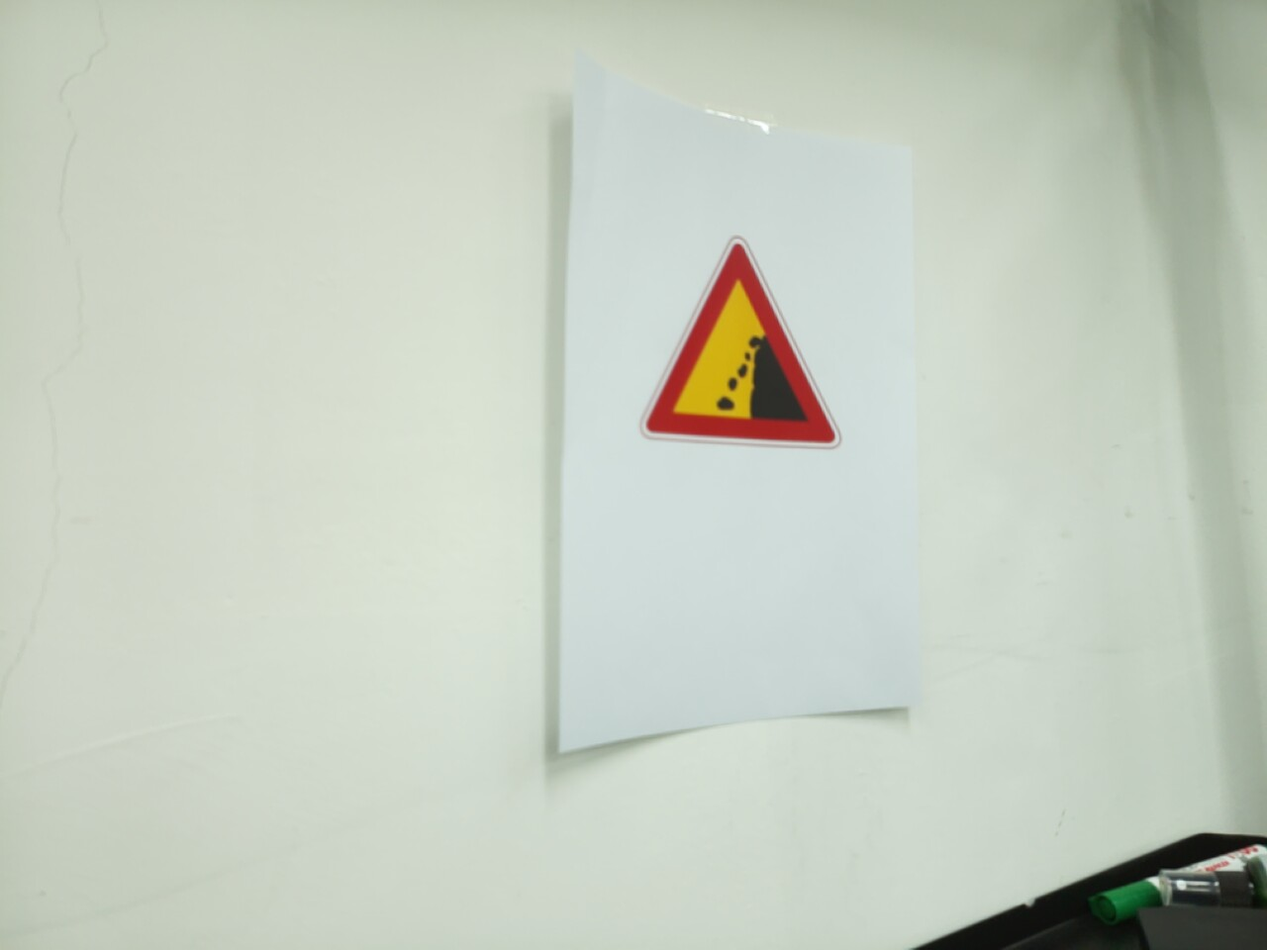falling_rocks: (639, 236, 842, 451)
